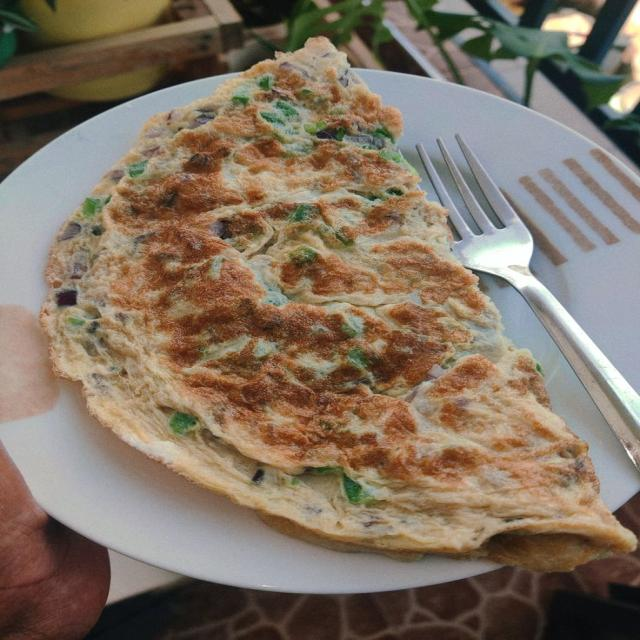omelette: (42, 38, 635, 570)
